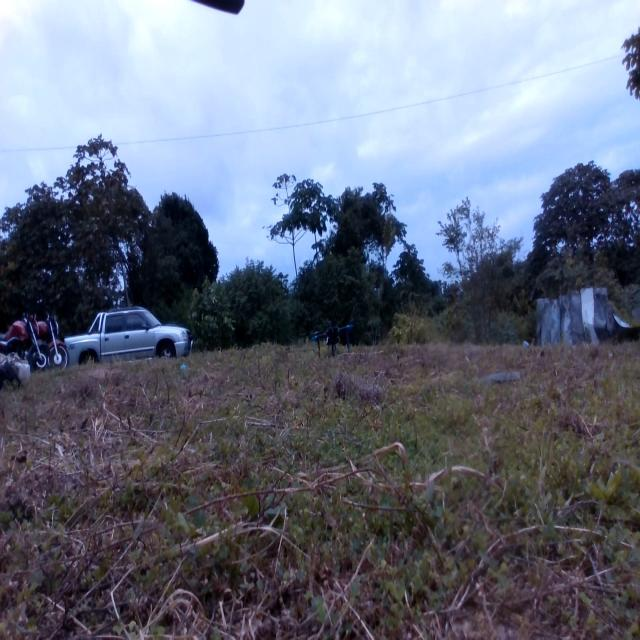-uav-: (307, 313, 361, 362)
